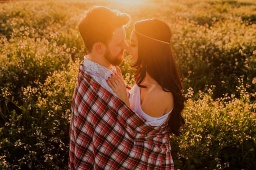female: (129, 18, 178, 80)
male: (78, 8, 130, 74)
